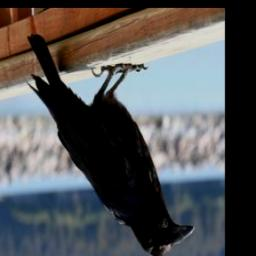Crow: (27, 33, 196, 256)
